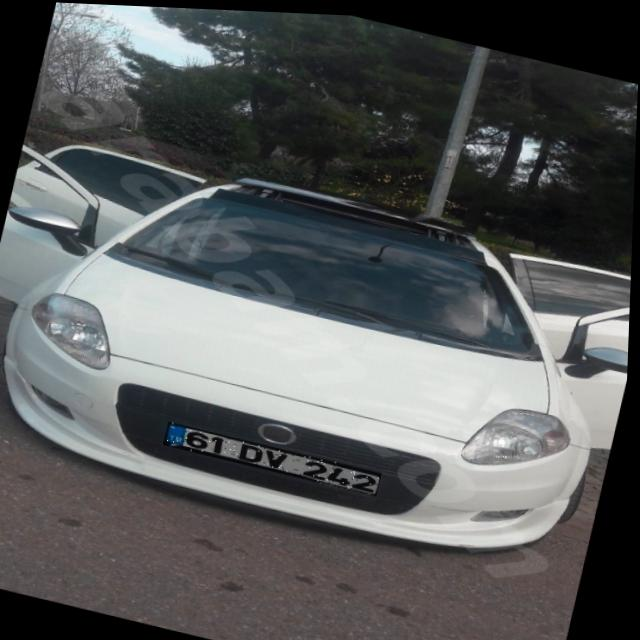license_plate: (165, 420, 387, 493)
